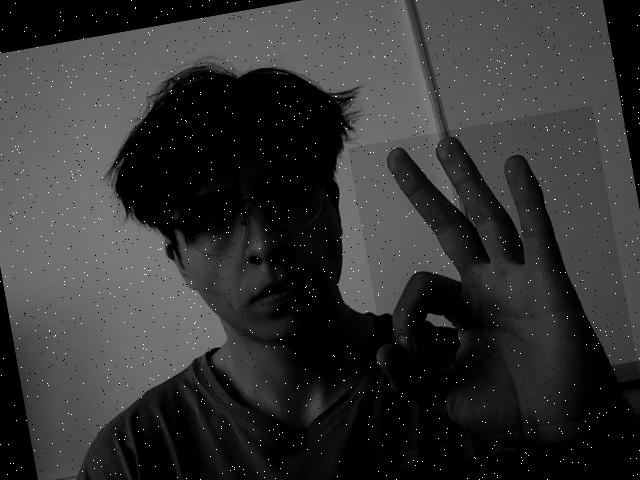OK: (347, 104, 640, 451)
